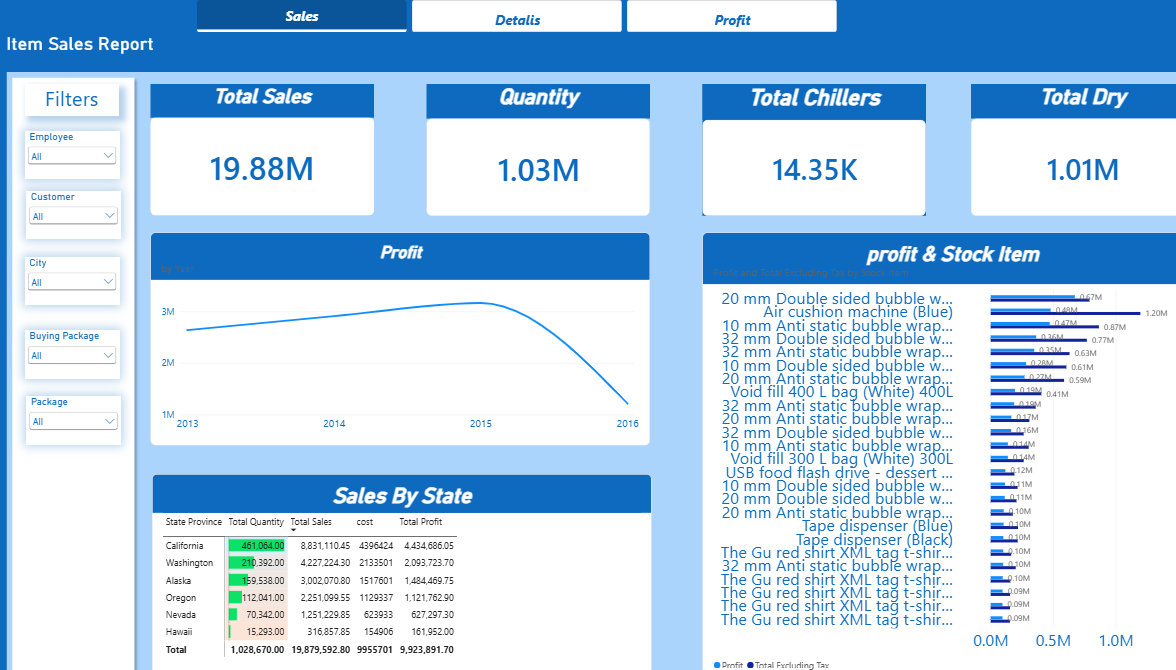

Layout of this report page (visuals, bound fields, positions):
{"tool":"powerbi","page":{"name":"Sales","canvas":[1920,1080],"ordinal":0},"visuals":[{"type":"shape","box":[0,0,1882.6,121.9],"z":0},{"type":"shape","box":[0,121.9,25.8,958.9],"z":1000},{"type":"shape","box":[25.8,121,208.7,958.9],"z":2000},{"type":"textbox","box":[25.8,61,513.4,39.9],"z":3000},{"type":"cardVisual","title":"Total Dry","fields":{"Data":["Sum(FactSale.Total Dry Items)"]},"box":[1533.3,140.7,349.3,206.3],"z":4000},{"type":"cardVisual","title":"Total Chillers","fields":{"Data":["Sum(FactSale.Total Chiller Items)"]},"box":[1113.6,140.7,349.3,206.3],"z":5000},{"type":"cardVisual","title":"Quantity","fields":{"Data":["Sum(FactSale.Quantity)"]},"box":[682.2,140.7,349.3,206.3],"z":6000},{"type":"cardVisual","title":"Total Sales","fields":{"Data":["Sum(FactSale.Total Excluding Tax)"]},"box":[250.9,140.7,349.3,206.3],"z":7000},{"type":"textbox","box":[53.9,140.7,147.7,49.2],"z":8000},{"type":"lineChart","fields":{"Category":["DimDate.Date.Variation.Date Hierarchy.Year","DimDate.Date.Variation.Date Hierarchy.Quarter","DimDate.Date.Variation.Date Hierarchy.Month","DimDate.Date.Variation.Date Hierarchy.Day"],"Y":["Sum(FactSale.Profit)"]},"box":[250.9,371.9,780.7,332.9],"z":9000},{"type":"clusteredBarChart","title":"profit & Stock Item","fields":{"Category":["DimStockltm.Stock Item"],"Y":["Sum(FactSale.Profit)","Sum(FactSale.Total Excluding Tax)"]},"box":[1112.9,372.6,780.7,708],"z":10000},{"type":"pivotTable","title":"Sales By State","fields":{"Rows":["DimCity.State Province"],"Values":["Sum(FactSale.Quantity)","Sum(FactSale.Total Excluding Tax)","Sum(FactSale.cost)","Sum(FactSale.Profit)"]},"box":[252.6,749.1,780.7,332.9],"z":11000},{"type":"slicer","fields":{"Values":["DimEmployee.Employee"]},"box":[53.2,212.9,148.4,75.8],"z":12000},{"type":"slicer","fields":{"Values":["DimCustomer.Customer"]},"box":[56.5,308.1,148.4,75.8],"z":13000},{"type":"slicer","fields":{"Values":["DimCity.City"]},"box":[53.2,411.3,148.4,75.8],"z":14000},{"type":"slicer","fields":{"Values":["DimStockltm.Buying Package"]},"box":[53.2,524.2,148.4,75.8],"z":15000},{"type":"slicer","fields":{"Values":["FactSale.Package"]},"box":[56.5,629,148.4,75.8],"z":16000},{"type":"pageNavigator","box":[322.8,10.5,1000,50],"z":17000}]}

Visuals, with their boxes in screenshot pixels (x1, y1, x2, y2), scaled from the page's 1920x1080 canvas onto the 1176x670 screenshot:
shape: 0 0 1153 76
shape: 0 76 16 669
shape: 16 75 144 669
textbox: 16 38 330 63
"Total Dry" cardVisual: 939 87 1153 215
"Total Chillers" cardVisual: 682 87 896 215
"Quantity" cardVisual: 418 87 632 215
"Total Sales" cardVisual: 154 87 368 215
textbox: 33 87 123 118
lineChart - DimDate.Date.Variation.Date Hierarchy.Year x DimDate.Date.Variation.Date Hierarchy.Quarter: 154 231 632 437
"profit & Stock Item" clusteredBarChart: 682 231 1160 669
"Sales By State" pivotTable: 155 465 633 669
slicer - DimEmployee.Employee: 33 132 123 179
slicer - DimCustomer.Customer: 35 191 126 238
slicer - DimCity.City: 33 255 123 302
slicer - DimStockltm.Buying Package: 33 325 123 372
slicer - FactSale.Package: 35 390 126 437
pageNavigator: 198 7 810 38
